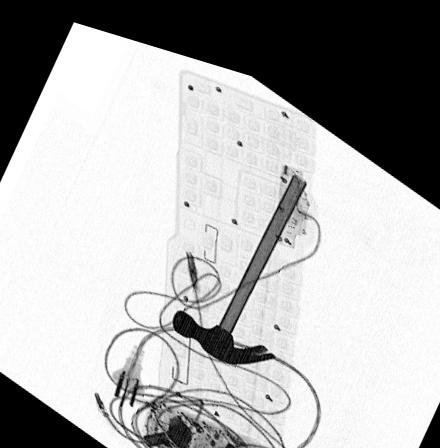Hammer: (171, 157, 307, 351)
